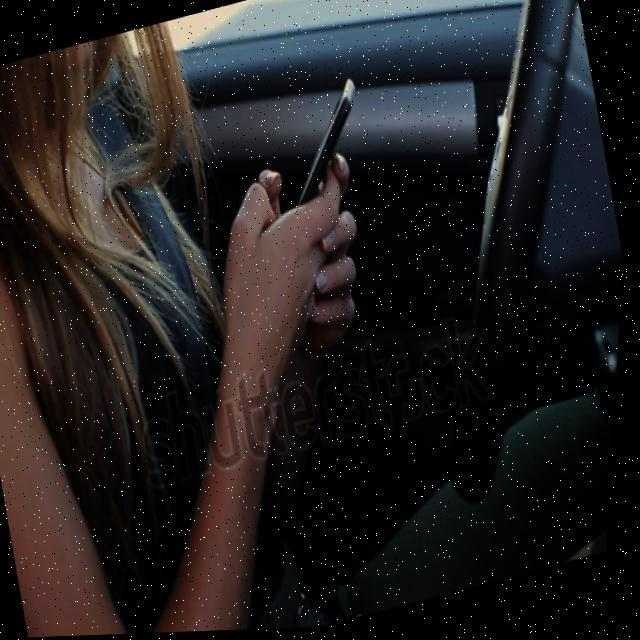PhoneCall: (268, 76, 382, 226)
